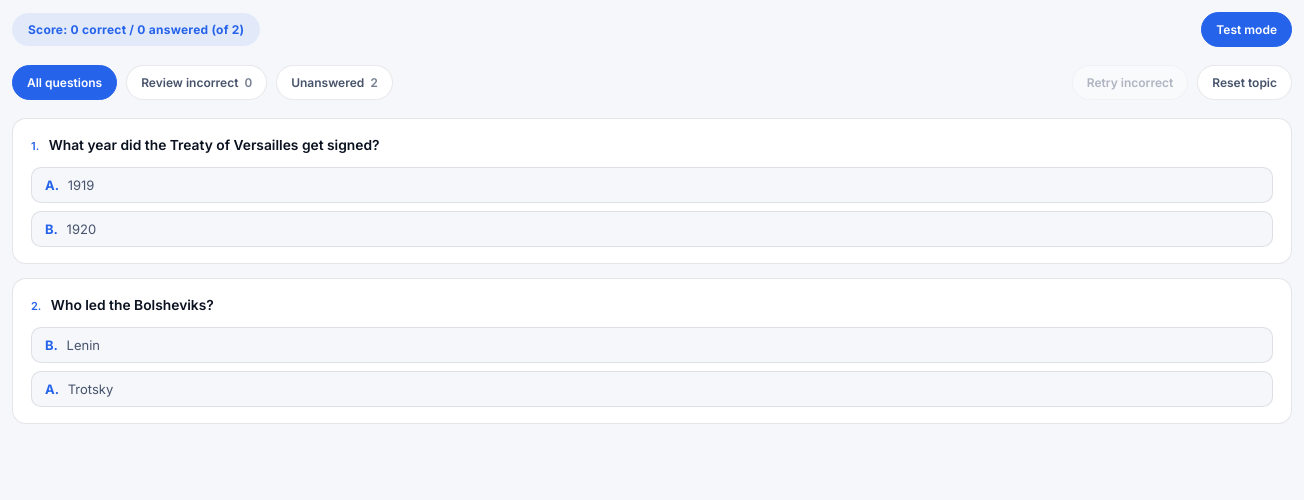
Scenario: QuizPanel › retry incorrect clears only the wrong answer, leaving the correct one
Click the button "A. 1919" at (50, 185), box [31,167,1273,203]
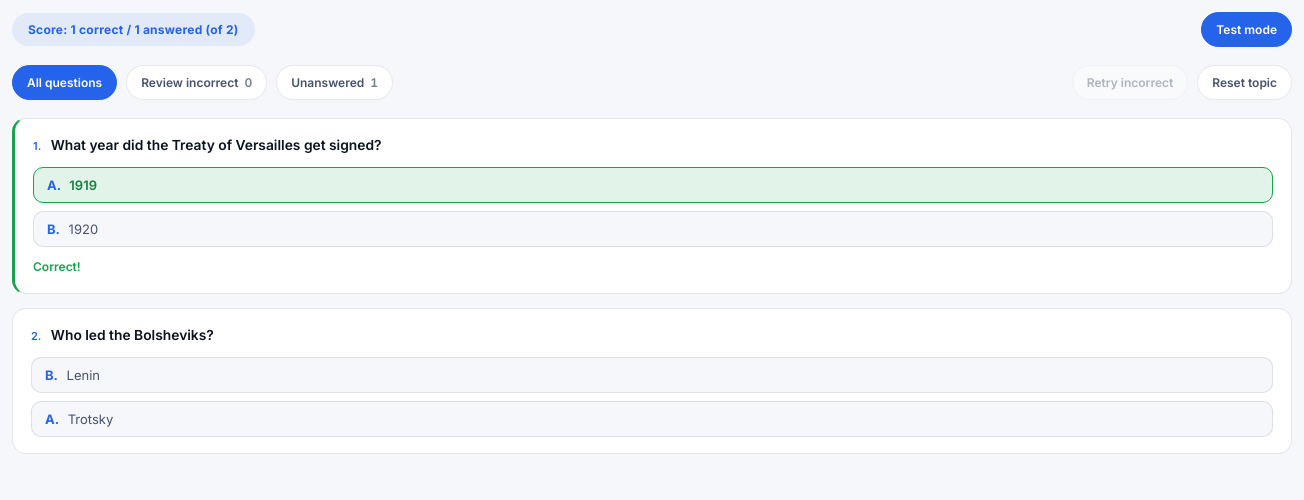
Click the button "A. Trotsky" at (90, 419), box [31,401,1273,437]
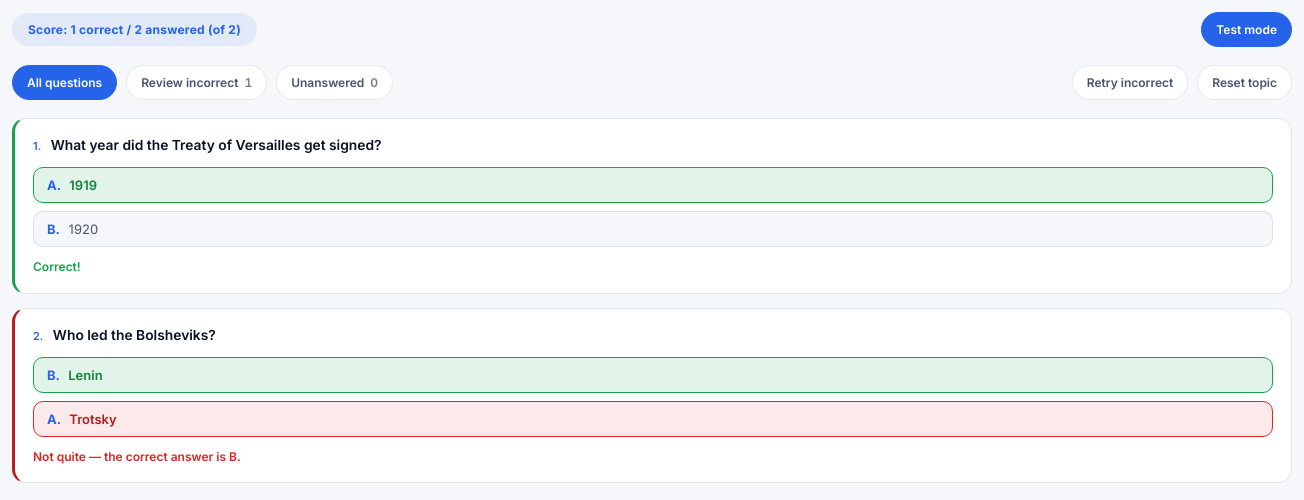
Click the button "Retry incorrect" at (1130, 83), box [1072,65,1188,100]
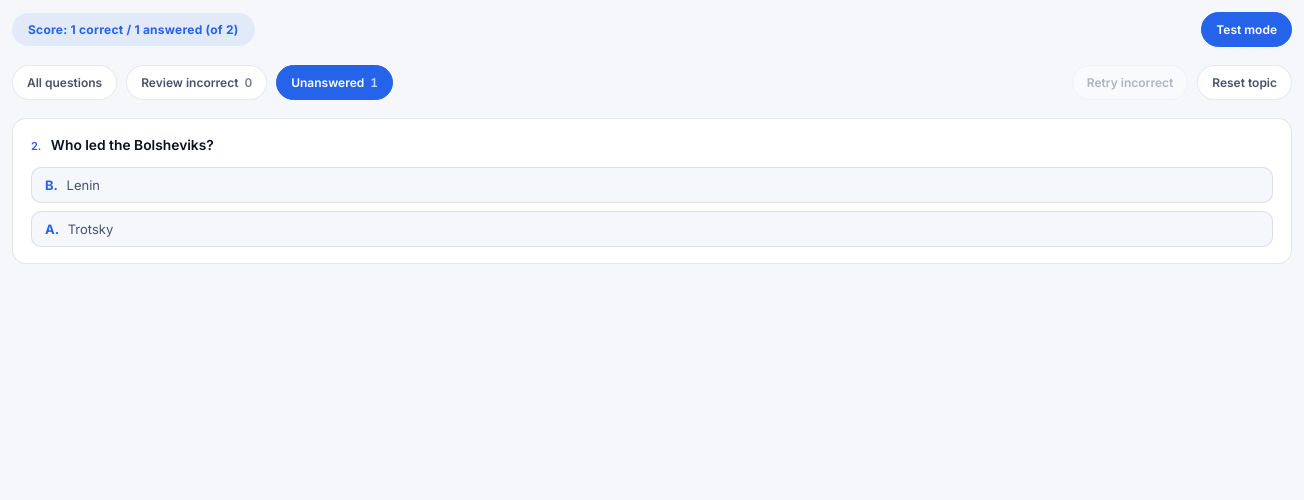
Now the text "Score: 1 correct / 1 answered (of 2)" is shown, box [12,13,254,46]
Now the button "A. Trotsky" is enabled, box [31,211,1273,247]
